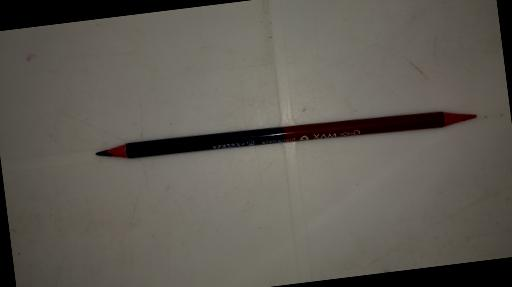Pencil: (92, 94, 479, 170)
